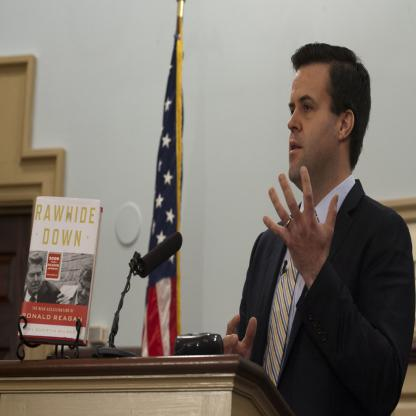book: (16, 196, 106, 348)
